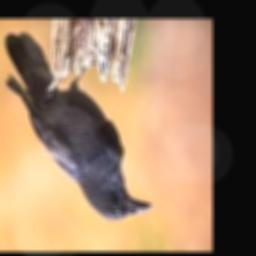Crow: (4, 32, 152, 220)
